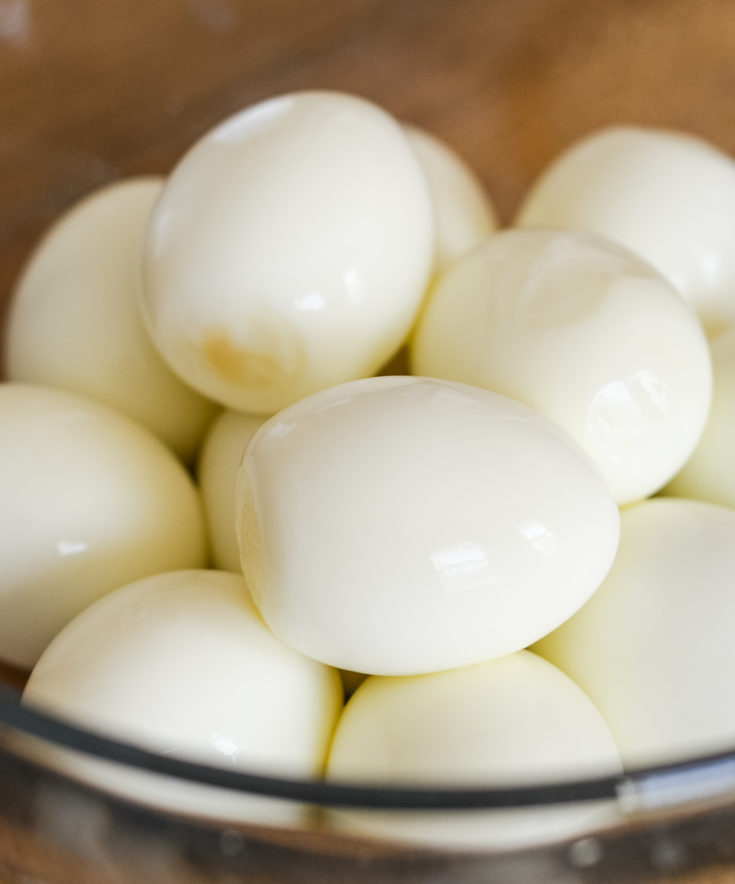egg: (228, 370, 626, 664), (19, 556, 353, 834), (147, 81, 437, 390), (411, 197, 701, 506), (1, 138, 290, 447), (327, 650, 631, 822), (525, 81, 735, 326), (525, 509, 735, 754), (1, 395, 209, 640)
